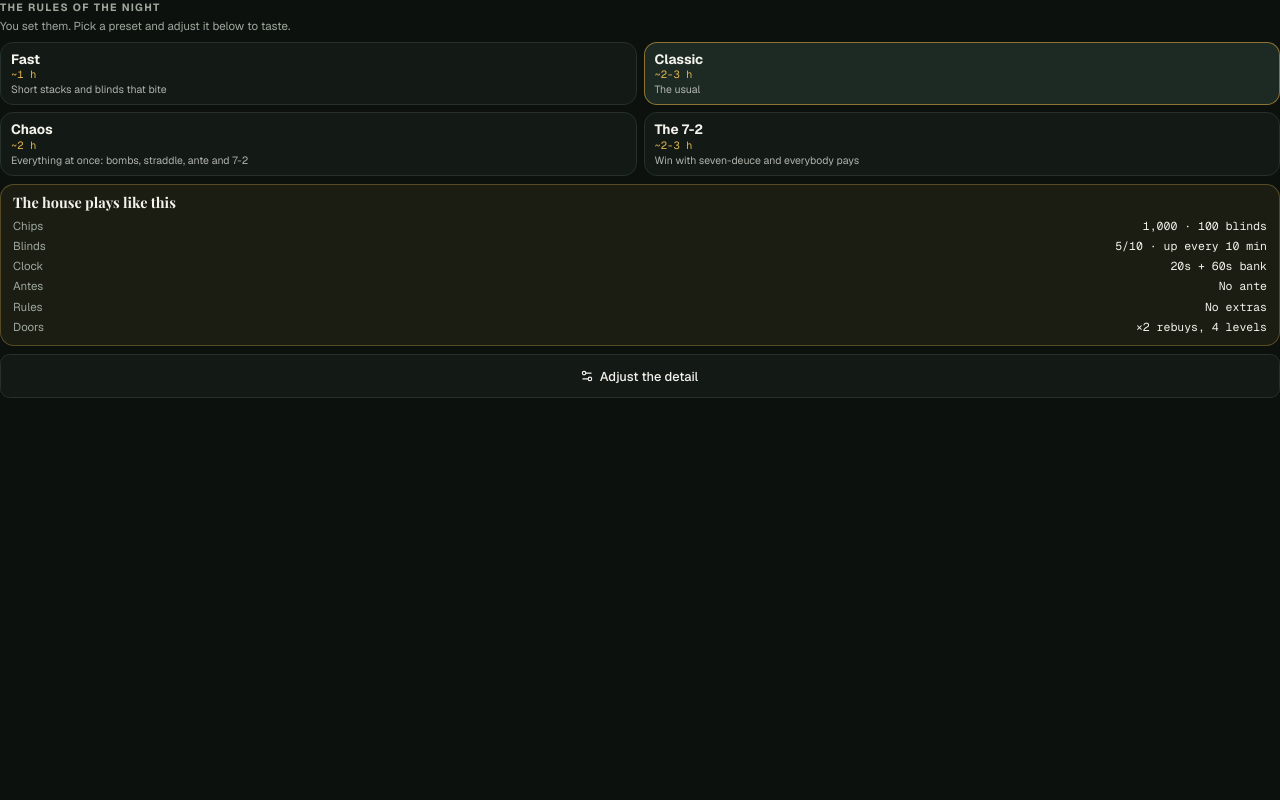
it: a table this screen did not build › refuses to save blinds the server would reject, and says why
Click the button "Adjust the detail" at (640, 376), box top-left (0, 354), bottom-right (1279, 398)
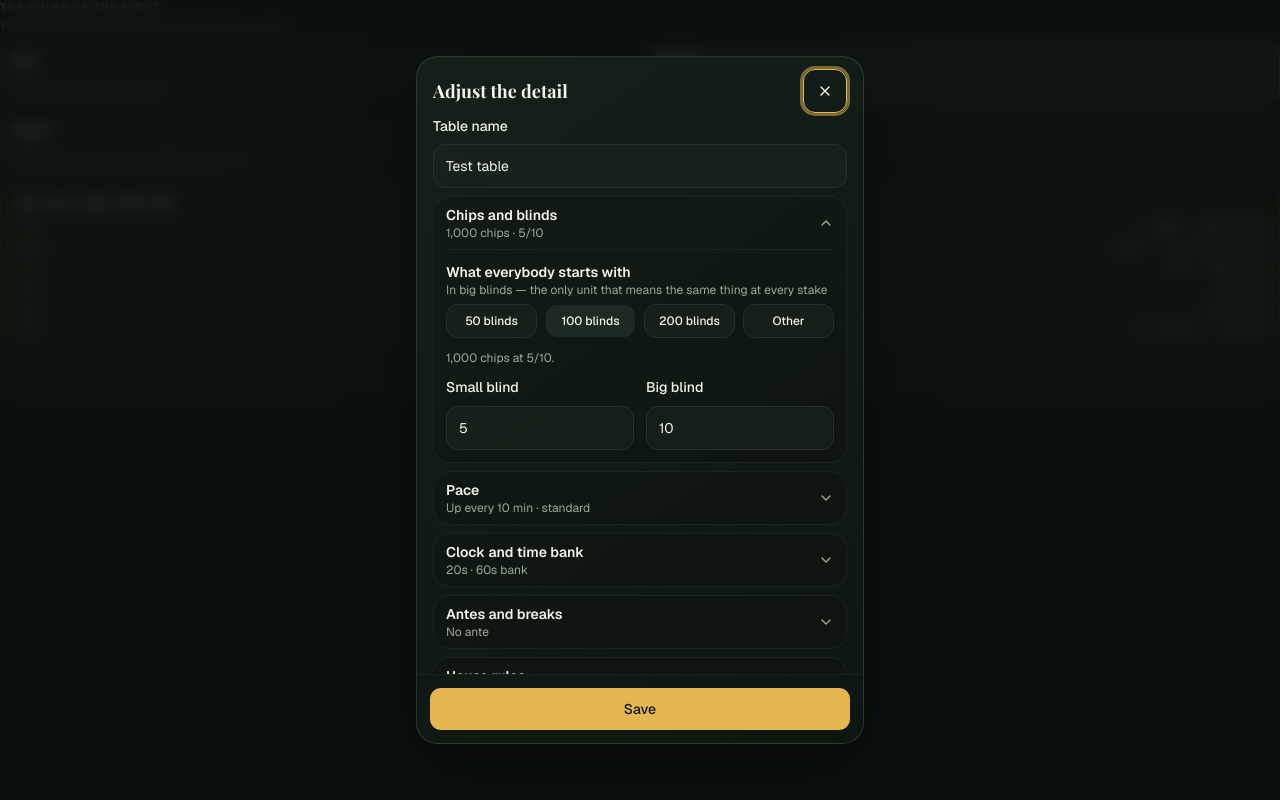
Clear the field labelled "Small blind" at (540, 428), box top-left (446, 406), bottom-right (634, 450)
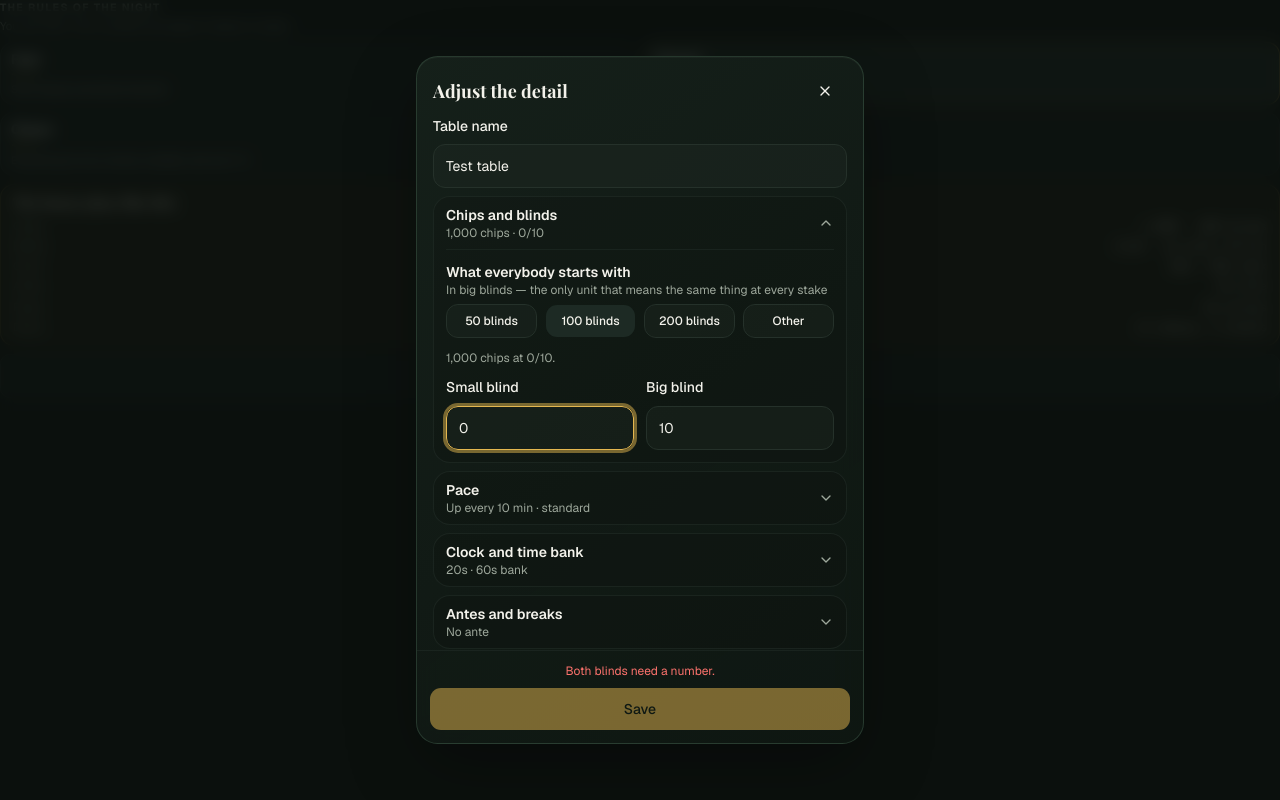
Expected: the message reads "Both blinds need a number.", top-left (565, 663), bottom-right (715, 679)
Expected: the button "Save" is disabled, top-left (429, 687), bottom-right (851, 731)
